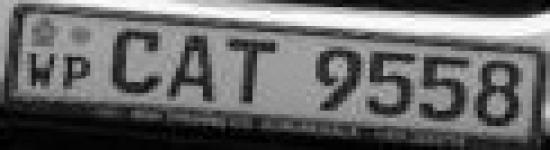5: (419, 52, 477, 126), (370, 45, 420, 122)
8: (472, 55, 525, 130)
9: (309, 42, 367, 118)
A: (166, 28, 219, 106)
C: (110, 25, 166, 96)
P: (57, 48, 93, 92)
T: (218, 33, 285, 106)
W: (28, 50, 59, 89)
